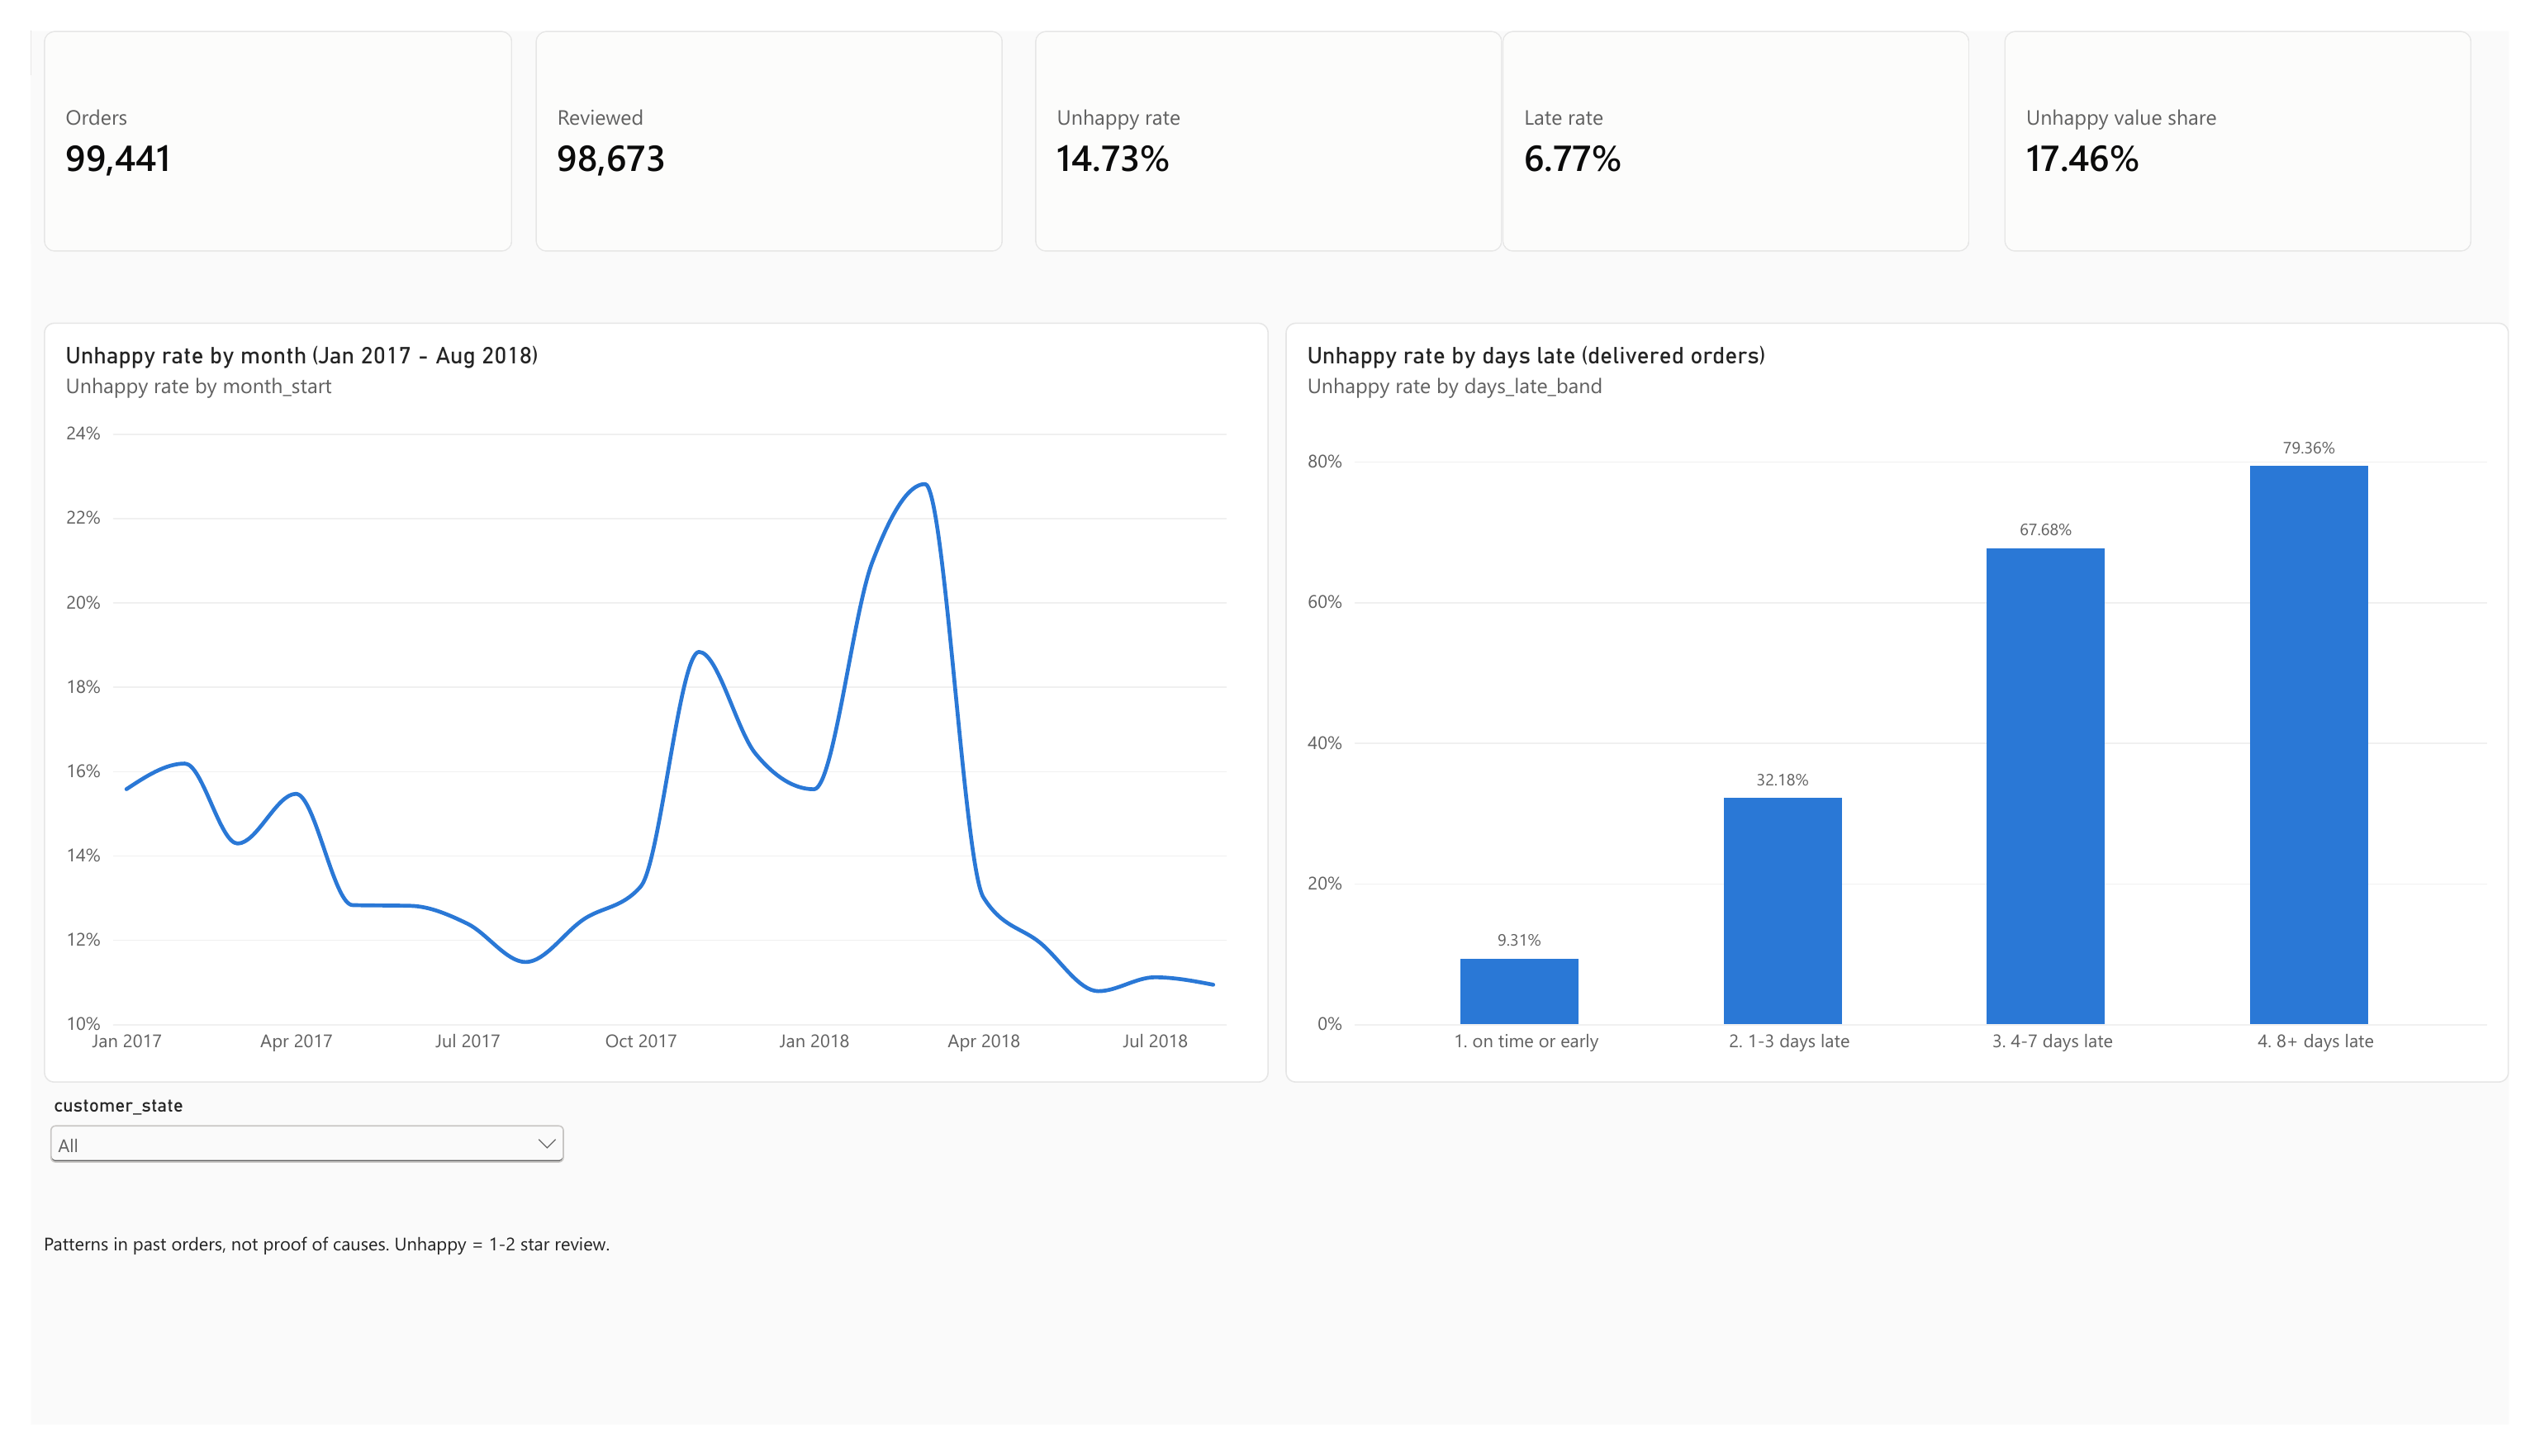

This screenshot's page, from the dashboard's own definition file:
{"tool":"powerbi","page":{"name":"Overview","canvas":[1920,1080],"ordinal":0},"visuals":[{"type":"cardVisual","fields":{"Data":["orders.Orders"]},"box":[10.3,0,362.3,170.8],"z":0},{"type":"cardVisual","fields":{"Data":["orders.Reviewed"]},"box":[391.1,0,362,171],"z":1000},{"type":"cardVisual","fields":{"Data":["orders.Unhappy rate"]},"box":[778,0,362,171],"z":2000},{"type":"cardVisual","fields":{"Data":["orders.Late rate"]},"box":[1140.3,0,362,171],"z":3000},{"type":"cardVisual","fields":{"Data":["orders.Unhappy value share"]},"box":[1529.3,0,362,171],"z":4000},{"type":"lineChart","title":"Unhappy rate by month (Jan 2017 - Aug 2018)","fields":{"Category":["dim_date.month_start"],"Y":["orders.Unhappy rate"]},"box":[10.3,226.4,948.9,588.7],"z":5000},{"type":"clusteredColumnChart","title":"Unhappy rate by days late (delivered orders)","fields":{"Category":["orders.days_late_band"],"Y":["orders.Unhappy rate"]},"box":[971.5,226.4,948.9,588.7],"z":6000},{"type":"slicer","fields":{"Values":["orders.customer_state"]},"box":[10.3,825.4,407.5,111.1],"z":7000},{"type":"textbox","box":[10,930,949,150],"z":8000}]}

Visuals, with their boxes on the page's 1920x1080 design canvas (x1, y1, x2, y2). These are canvas units, not pixel positions in the 2540x1456 screenshot, which may show the page scaled, cropped or inside an application window:
cardVisual - orders.Orders: {"x1": 10, "y1": 0, "x2": 373, "y2": 171}
cardVisual - orders.Reviewed: {"x1": 391, "y1": 0, "x2": 753, "y2": 171}
cardVisual - orders.Unhappy rate: {"x1": 778, "y1": 0, "x2": 1140, "y2": 171}
cardVisual - orders.Late rate: {"x1": 1140, "y1": 0, "x2": 1502, "y2": 171}
cardVisual - orders.Unhappy value share: {"x1": 1529, "y1": 0, "x2": 1891, "y2": 171}
"Unhappy rate by month (Jan 2017 - Aug 2018)" lineChart: {"x1": 10, "y1": 226, "x2": 959, "y2": 815}
"Unhappy rate by days late (delivered orders)" clusteredColumnChart: {"x1": 972, "y1": 226, "x2": 1920, "y2": 815}
slicer - orders.customer_state: {"x1": 10, "y1": 825, "x2": 418, "y2": 936}
textbox: {"x1": 10, "y1": 930, "x2": 959, "y2": 1080}
